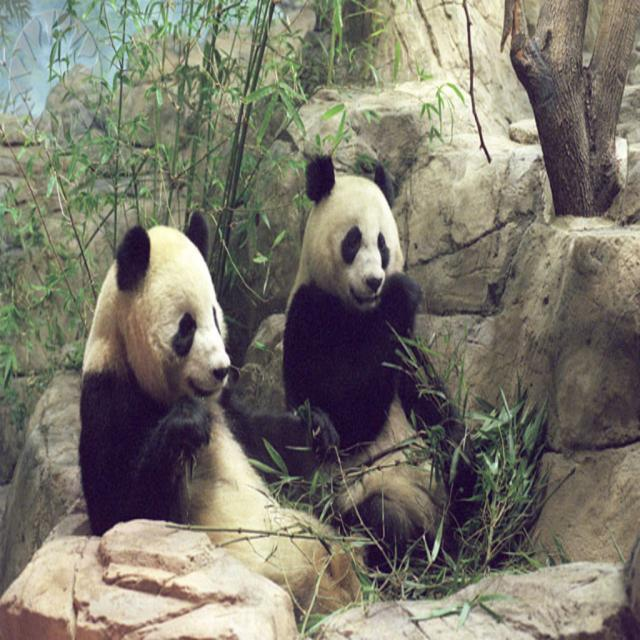panda: (78, 209, 372, 616), (281, 147, 477, 573)
